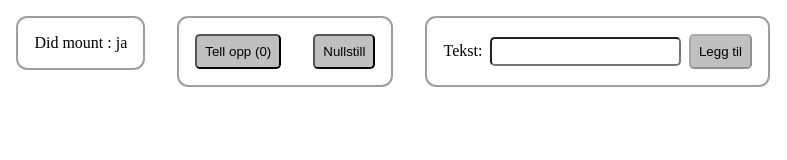
Test case: <ReactComponentExample /> › click count
This screenshot has width=787, height=160.
Click the button with test id "count-button" at (238, 52), box left=195, top=34, right=281, bottom=69
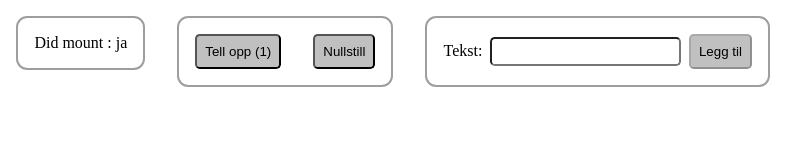
Click the button with test id "clear-button" at (344, 52), box left=313, top=34, right=375, bottom=69
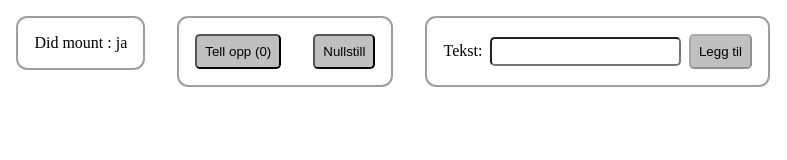
Expected: the button "Tell opp (0)" is shown, left=195, top=34, right=281, bottom=69
